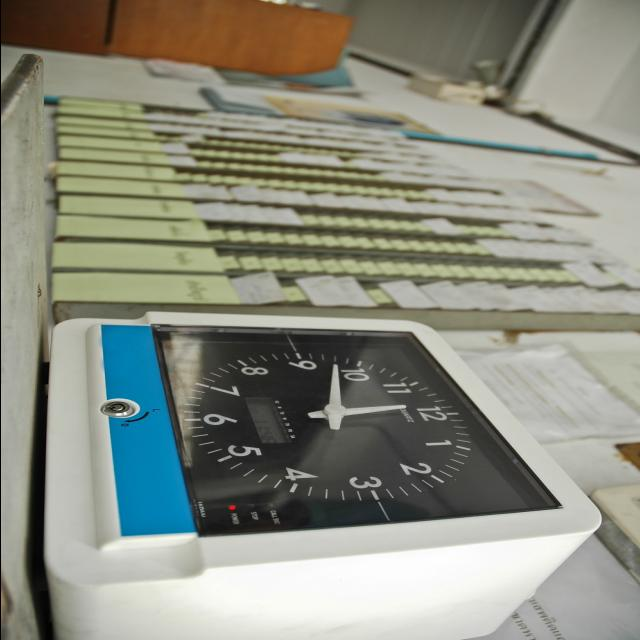clock: (0, 250, 634, 640)
